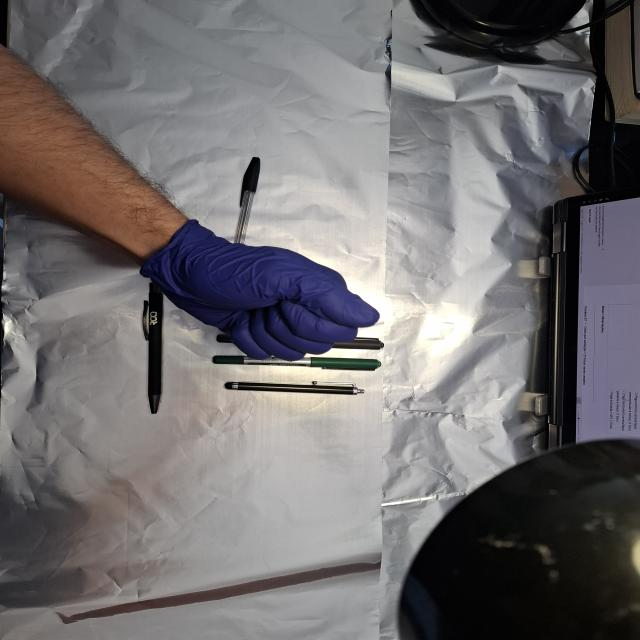glove_on: (143, 218, 384, 365)
